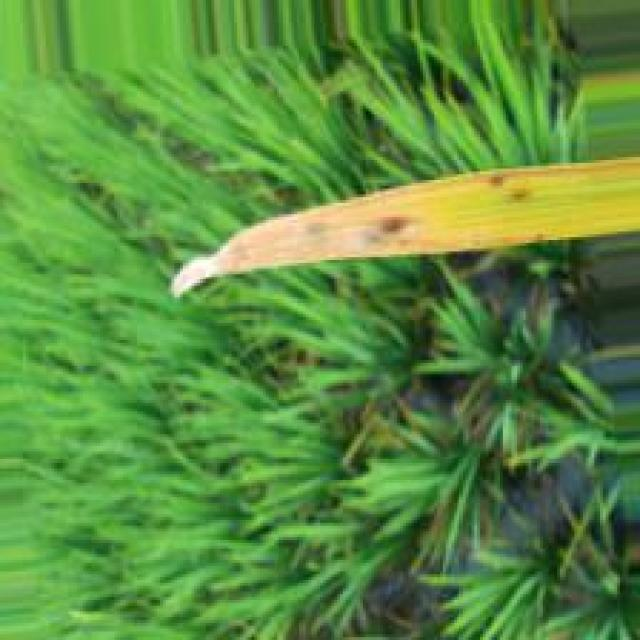Bacterial_Leaf_Blight: (215, 158, 639, 274), (481, 230, 548, 245), (376, 217, 408, 235), (501, 189, 530, 202)
